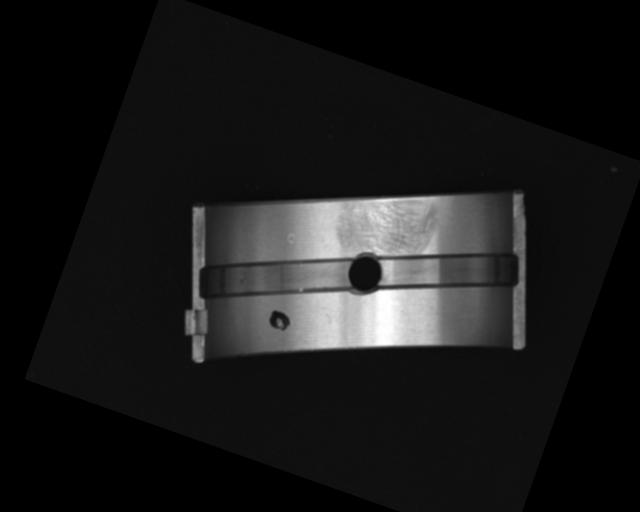blot: (264, 307, 294, 335)
bruise: (284, 231, 297, 246)
gap: (197, 215, 359, 338), (373, 214, 524, 326)
hole: (340, 248, 389, 300)
scratch: (331, 174, 445, 275)
